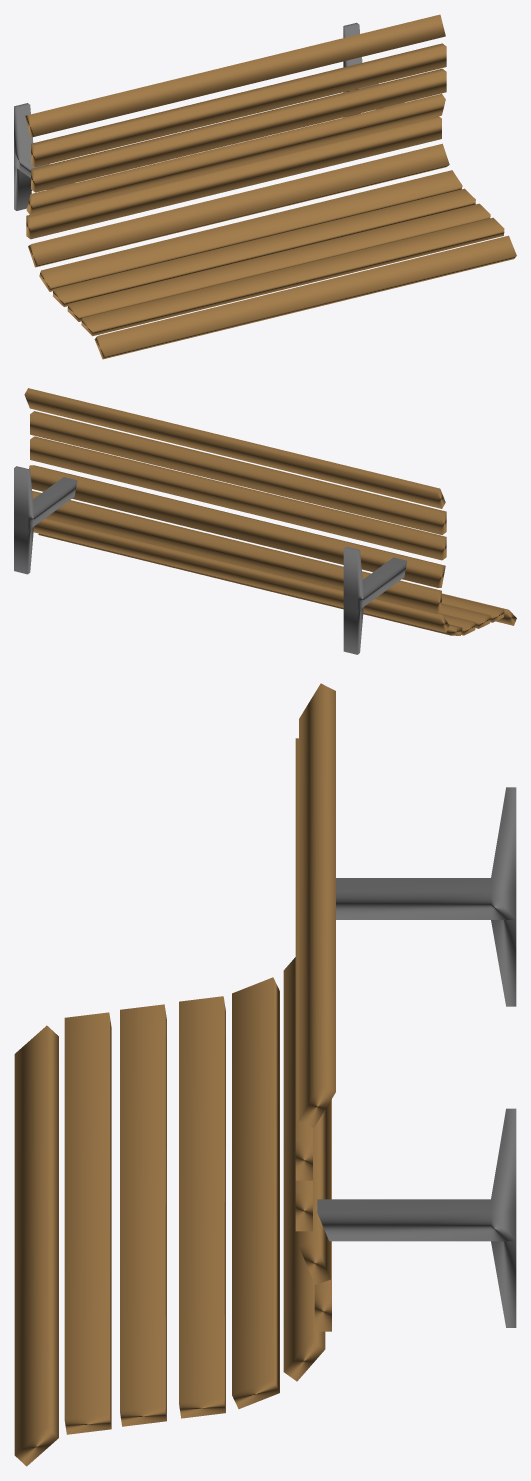
Rendered from bench.fbx.
3 renders of one model, top to bottom at view 1: azimuth 30°, elevation 25°; view 2: azimuth 150°, elevation 25°; view 3: azimuth 270°, elevation 25°, orthographic. The views are drawn at different scales.
Parts seen in each view (by area): view 1: Cube.010; view 2: Cube.010; view 3: Cube.010.
Boxes of the visible parts, bbox=[...] form: Cube.010: bbox=[14, 14, 516, 359]; Cube.010: bbox=[14, 388, 516, 654]; Cube.010: bbox=[14, 683, 516, 1466].
Bounding box in the file's own units: 74.58 × 33.07 × 39.37.
1 material, 1 textured.
